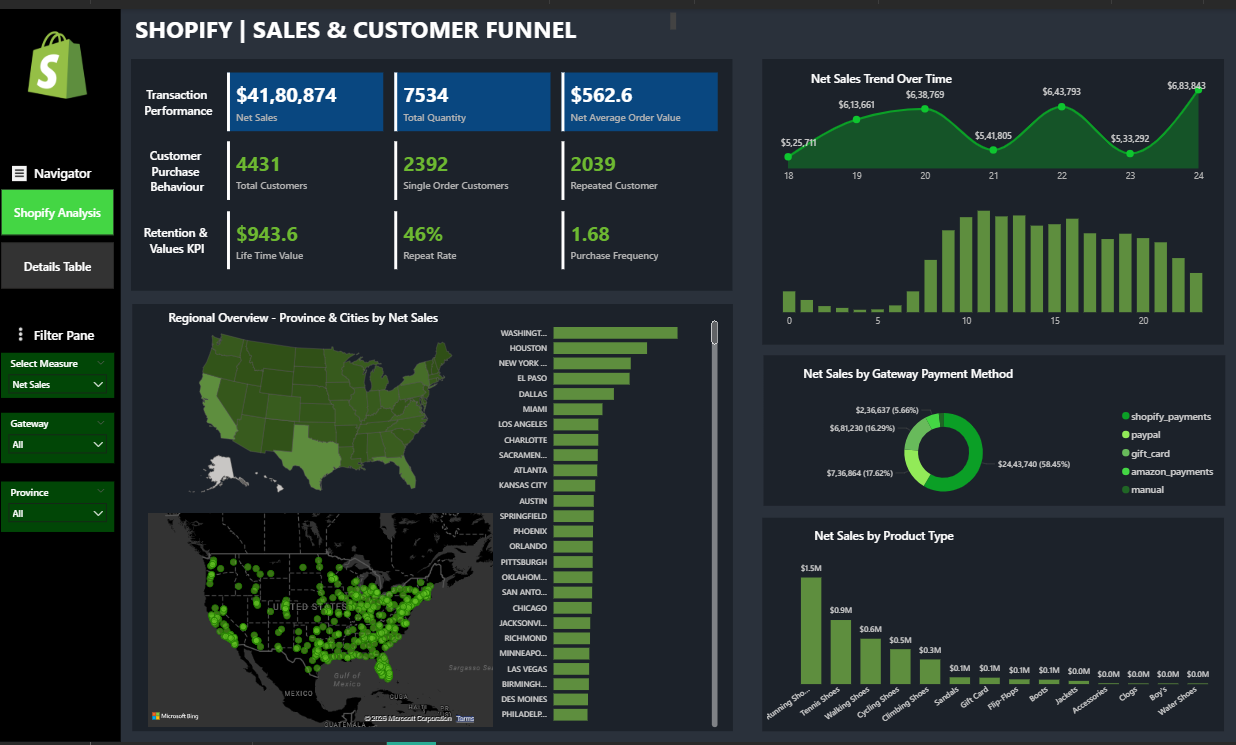

Layout of this report page (visuals, bound fields, positions):
{"tool":"powerbi","page":{"name":"Shopify Analysis","canvas":[1700,1000],"ordinal":0},"visuals":[{"type":"shape","box":[0,0,170,999],"z":0},{"type":"textbox","box":[184,0,748,54],"z":1000},{"type":"shape","box":[184,68,820,316],"z":2000},{"type":"cardVisual","fields":{"Data":["shopify_sales.Net Sales","shopify_sales.Total Quantity","shopify_sales.Net Average Order Value"]},"box":[310.2,81.8,680,90.3],"z":3000},{"type":"card","fields":{"Values":["shopify_sales.Transaction Perf"]},"box":[186.2,84.5,125.9,84.5],"z":4000},{"type":"cardVisual","fields":{"Data":["shopify_sales.Total Customers","shopify_sales.Single Order Customers","shopify_sales.Repeated Customer"]},"box":[310.2,176.2,680,90.3],"z":5000},{"type":"card","fields":{"Values":["shopify_sales.Customer Purchase Behaviour"]},"box":[184.5,175.9,125.9,84.5],"z":6000},{"type":"cardVisual","fields":{"Data":["shopify_sales.Life Time Value","shopify_sales.Repeat Rate","shopify_sales.Purchase Frequency"]},"box":[310.3,270.7,679.3,89.7],"z":7000},{"type":"card","fields":{"Values":["shopify_sales.Retention & Values KPI"]},"box":[184.5,272.4,125.9,84.5],"z":8000},{"type":"shape","box":[186.2,401.7,819,582.8],"z":9000},{"type":"shapeMap","fields":{"Value":["shopify_sales.Net Sales"],"Category":["shopify_sales.Billing Address Province"]},"box":[203.4,425.9,479.3,250],"z":10000},{"type":"slicer","fields":{"Values":["Select Measure.Select Measure"]},"box":[7,468.4,154.4,61.4],"z":11000},{"type":"map","fields":{"Category":["shopify_sales.Location"]},"box":[203.6,682.1,478.6,301.8],"z":12000},{"type":"clusteredBarChart","fields":{"Y":["shopify_sales.Net Sales"],"Category":["shopify_sales.CITY"]},"box":[666.7,412.3,322.8,571.9],"z":13000},{"type":"card","fields":{"Values":["shopify_sales.Map Title"]},"box":[187.7,401.8,463.2,40.4],"z":14000},{"type":"shape","box":[1043.9,68.4,629.8,389.5],"z":15000},{"type":"areaChart","fields":{"Y":["shopify_sales.Net Sales"],"Category":["shopify_sales.Invoice Date.Variation.Date Hierarchy.Day"]},"box":[1064.9,87.7,589.5,159.6],"z":16000},{"type":"columnChart","fields":{"Y":["shopify_sales.Net Sales"],"Category":["shopify_sales.Hour"]},"box":[1066.7,247.4,584.2,196.5],"z":17000},{"type":"card","fields":{"Values":["shopify_sales.Trend title"]},"box":[1064.9,68.4,284.2,57.9],"z":18000},{"type":"shape","box":[1045.6,471.9,629.8,205.3],"z":19000},{"type":"donutChart","fields":{"Y":["shopify_sales.Net Sales"],"Category":["shopify_sales.Gateway"]},"box":[1043.9,531.6,629.8,145.6],"z":20000},{"type":"card","fields":{"Values":["shopify_sales.Gateway Title"]},"box":[1043.9,477.2,398.2,43.9],"z":21000},{"type":"shape","box":[1043.9,693,629.8,291.2],"z":22000},{"type":"columnChart","fields":{"Y":["shopify_sales.Net Sales"],"Category":["shopify_sales.Product Type"]},"box":[1045.6,736.8,628.1,247.4],"z":23000},{"type":"card","fields":{"Values":["shopify_sales.Product Title"]},"box":[1064.9,698.2,291.2,43.9],"z":24000},{"type":"image","box":[29.8,26.3,107,101.8],"z":25000},{"type":"slicer","fields":{"Values":["shopify_sales.Gateway"]},"box":[7,550.9,154.4,68.4],"z":26000},{"type":"slicer","fields":{"Values":["shopify_sales.Billing Address Province"]},"box":[7,643.9,154.4,68.4],"z":27000},{"type":"pageNavigator","box":[7,245.6,154.4,136.8],"z":28000},{"type":"card","fields":{"Values":["shopify_sales.Navigator"]},"box":[33.3,207,114,40.4],"z":29000},{"type":"card","fields":{"Values":["shopify_sales.Filter Pane"]},"box":[35.1,426.3,114,40.4],"z":30000},{"type":"image","box":[17.5,201.8,29.8,45.6],"z":30001},{"type":"image","box":[19.3,426.3,29.8,35.1],"z":30002}]}

Visuals, with their boxes on the page's 1700x1000 design canvas (x1, y1, x2, y2). These are canvas units, not pixel positions in the 1236x745 screenshot, which may show the page scaled, cropped or inside an application window:
shape: bbox=[0, 0, 170, 999]
textbox: bbox=[184, 0, 932, 54]
shape: bbox=[184, 68, 1004, 384]
cardVisual - shopify_sales.Net Sales x shopify_sales.Total Quantity: bbox=[310, 82, 990, 172]
card - shopify_sales.Transaction Perf: bbox=[186, 84, 312, 169]
cardVisual - shopify_sales.Total Customers x shopify_sales.Single Order Customers: bbox=[310, 176, 990, 266]
card - shopify_sales.Customer Purchase Behaviour: bbox=[184, 176, 310, 260]
cardVisual - shopify_sales.Life Time Value x shopify_sales.Repeat Rate: bbox=[310, 271, 990, 360]
card - shopify_sales.Retention & Values KPI: bbox=[184, 272, 310, 357]
shape: bbox=[186, 402, 1005, 984]
shapeMap - shopify_sales.Net Sales x shopify_sales.Billing Address Province: bbox=[203, 426, 683, 676]
slicer - Select Measure.Select Measure: bbox=[7, 468, 161, 530]
map - shopify_sales.Location: bbox=[204, 682, 682, 984]
clusteredBarChart - shopify_sales.Net Sales x shopify_sales.CITY: bbox=[667, 412, 990, 984]
card - shopify_sales.Map Title: bbox=[188, 402, 651, 442]
shape: bbox=[1044, 68, 1674, 458]
areaChart - shopify_sales.Net Sales x shopify_sales.Invoice Date.Variation.Date Hierarchy.Day: bbox=[1065, 88, 1654, 247]
columnChart - shopify_sales.Net Sales x shopify_sales.Hour: bbox=[1067, 247, 1651, 444]
card - shopify_sales.Trend title: bbox=[1065, 68, 1349, 126]
shape: bbox=[1046, 472, 1675, 677]
donutChart - shopify_sales.Net Sales x shopify_sales.Gateway: bbox=[1044, 532, 1674, 677]
card - shopify_sales.Gateway Title: bbox=[1044, 477, 1442, 521]
shape: bbox=[1044, 693, 1674, 984]
columnChart - shopify_sales.Net Sales x shopify_sales.Product Type: bbox=[1046, 737, 1674, 984]
card - shopify_sales.Product Title: bbox=[1065, 698, 1356, 742]
image: bbox=[30, 26, 137, 128]
slicer - shopify_sales.Gateway: bbox=[7, 551, 161, 619]
slicer - shopify_sales.Billing Address Province: bbox=[7, 644, 161, 712]
pageNavigator: bbox=[7, 246, 161, 382]
card - shopify_sales.Navigator: bbox=[33, 207, 147, 247]
card - shopify_sales.Filter Pane: bbox=[35, 426, 149, 467]
image: bbox=[18, 202, 47, 247]
image: bbox=[19, 426, 49, 461]
